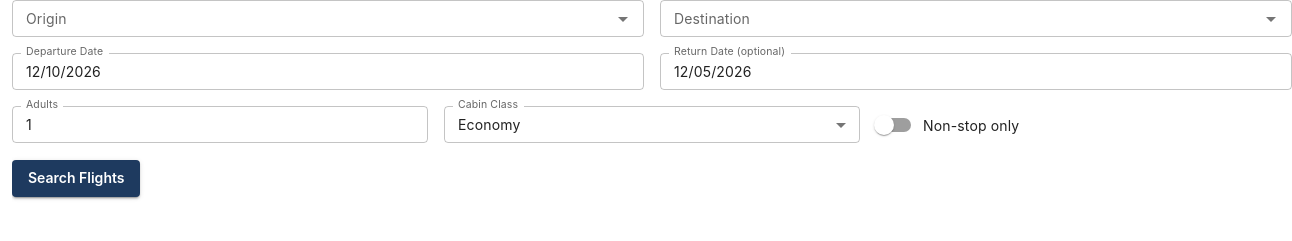
Test: SearchForm › REQ-SEARCH-FORM-S04: rejects return date before departure date
Click the button "Search Flights" at (76, 179), box x1=12 y1=160 x2=140 y2=197
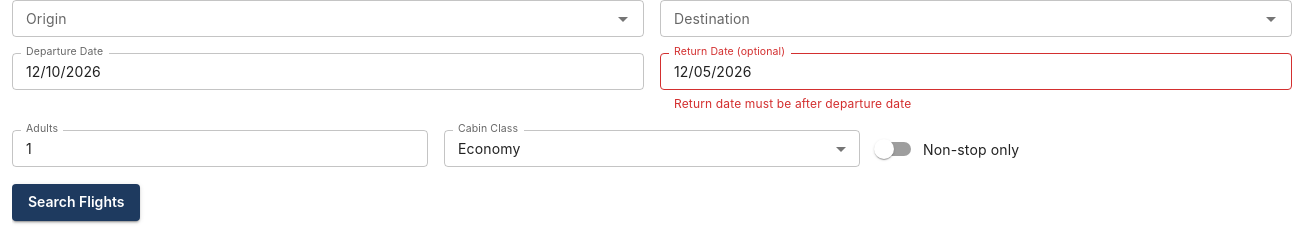
Now the text "Return date must be after departure date" is shown, box x1=674 y1=96 x2=911 y2=111
